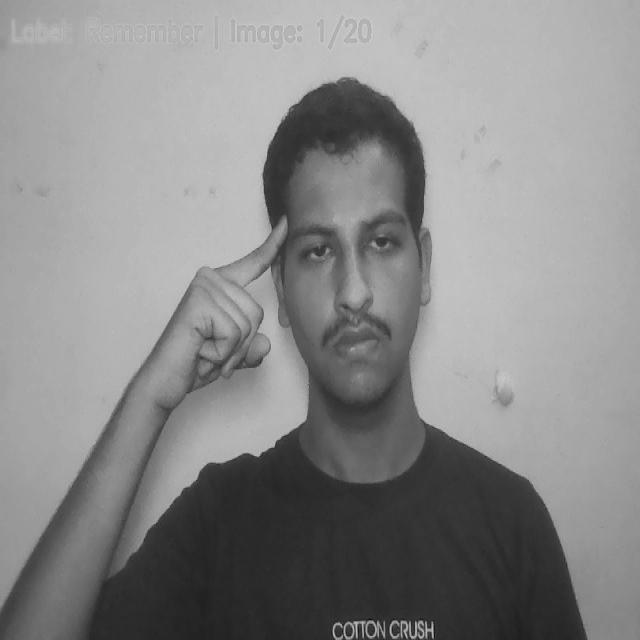Remember: (130, 221, 283, 428)
